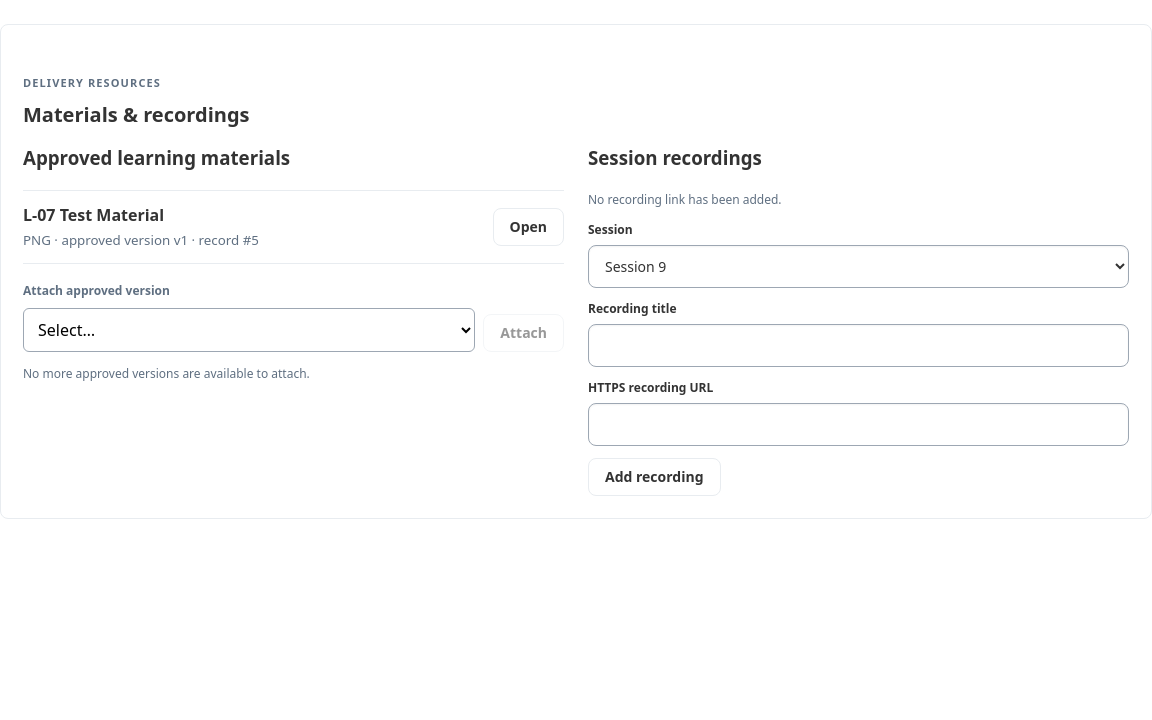
keeps the Trainer on the Intake page when download fails
The width and height of the screenshot is (1152, 720).
Click the button "Open" at (528, 227), box [492,208,564,246]
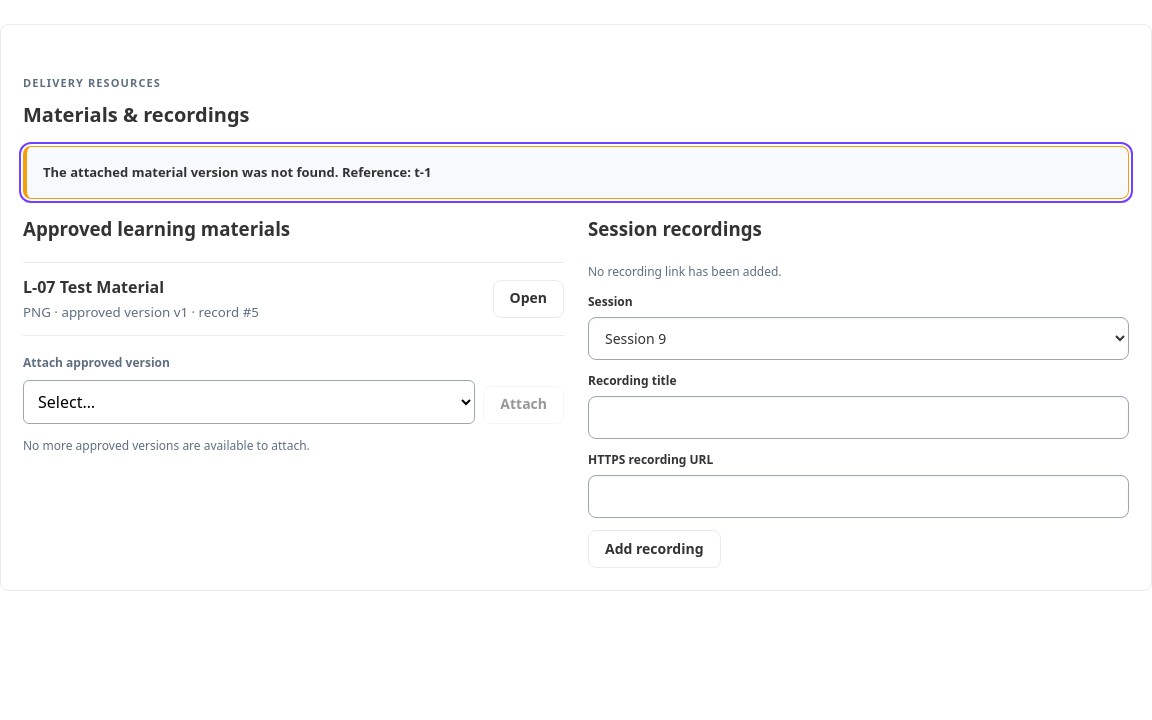
Expected: the text "L-07 Test Material" is shown, [23,276,164,298]
Expected: the message "The attached material version was not found. Reference: t-1" is shown, [23,146,1129,199]
